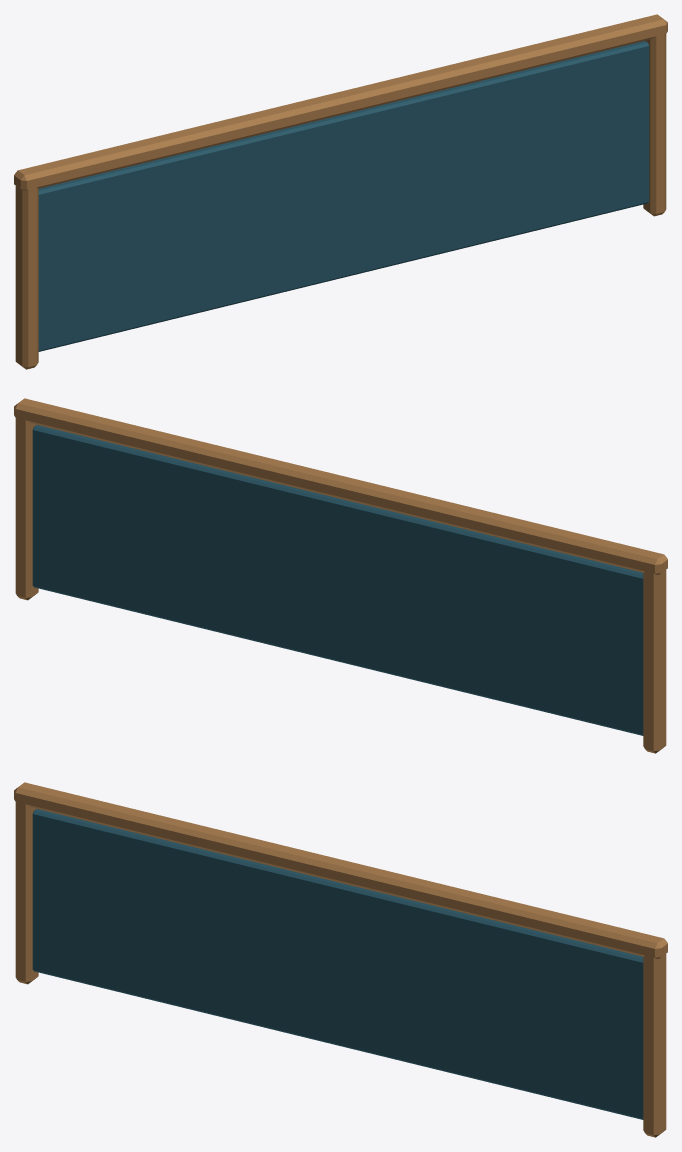
The model's file is railing.lod0.glb.
3 renders of one model, top to bottom at view 1: azimuth 30°, elevation 25°; view 2: azimuth 150°, elevation 25°; view 3: azimuth 330°, elevation 25°, orthographic.
Visible parts, largest first — view 1: structure; view 2: structure; view 3: structure.
Boxes of the visible parts, x1,y1,x2,y2 form: structure: (14,14,667,369); structure: (14,398,667,753); structure: (14,782,667,1137).
Bounding box in the file's own units: 4 × 1.15 × 0.12.
